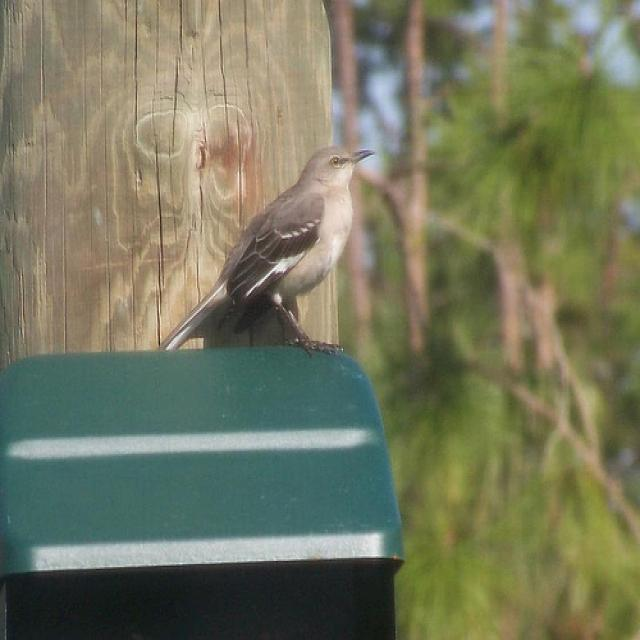bird: (161, 142, 363, 353)
